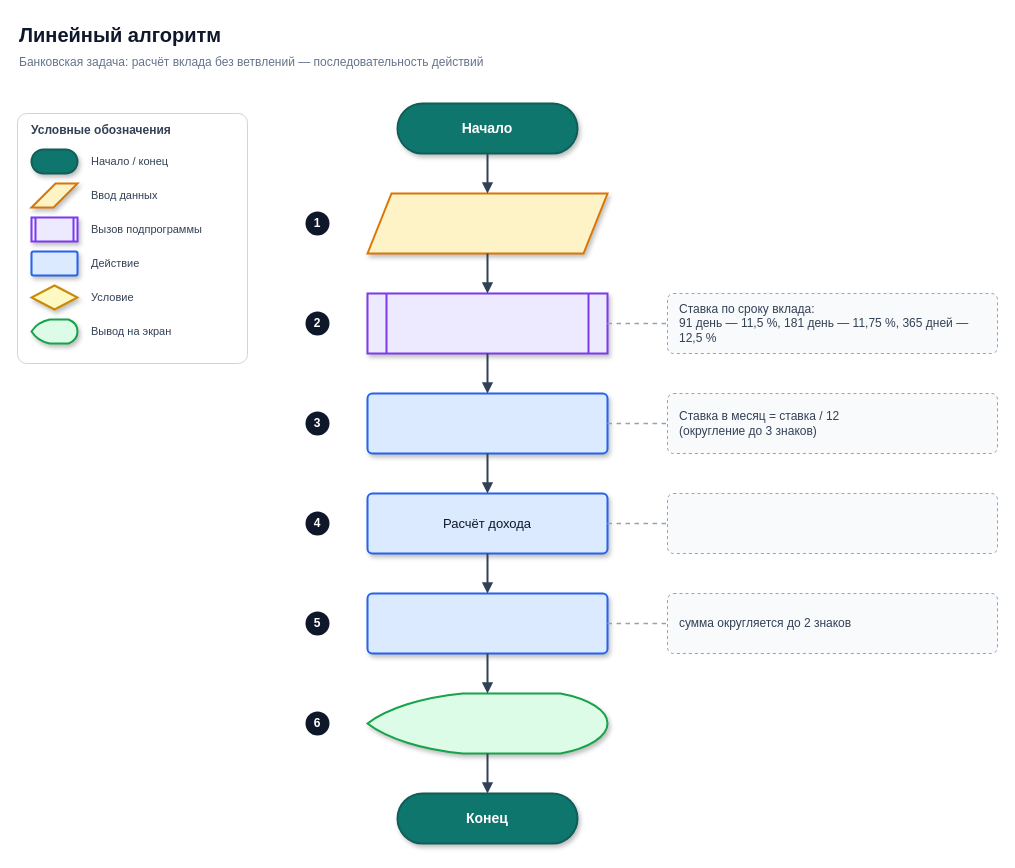
The diagram is 1015 pixels wide and 868 high, and some of its shapes have lost their labels. Here are the shapes that lost their labels. From the top down, the centre of each, then its label:
At pixel 488 224: "Ввод суммы и срока".
At pixel 488 324: "Получение банковского процесса".
At pixel 488 424: "Расчёт процентов одного дня".
At pixel 832 523: "доход = сумма × ставка в месяц / 100".
At pixel 488 624: "Сумма = сумма + доход".
At pixel 488 724: "Вывод: Сумма".
